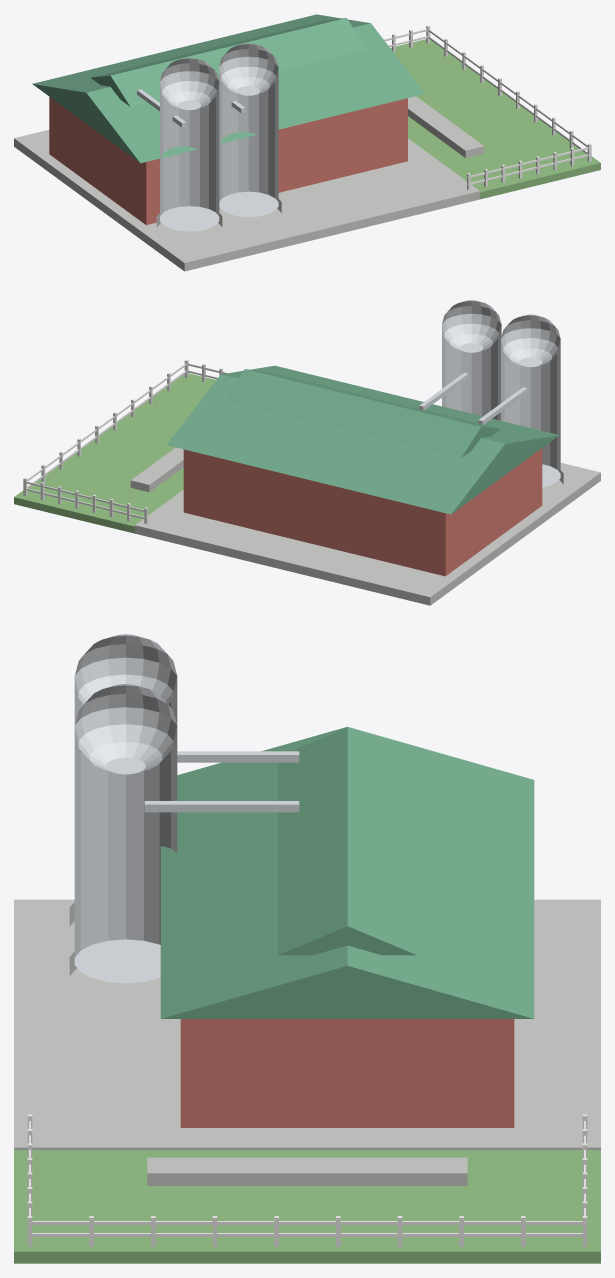
The model's file is lm_75_trang_trai_bo_sua_highland_dairy_barn_silo.glb.
The picture shows the model from 3 angles, top to bottom: view 1: azimuth 30°, elevation 25°; view 2: azimuth 150°, elevation 25°; view 3: azimuth 270°, elevation 25°; orthographic projection. The views are drawn at different scales.
Visible parts, largest first — view 1: lm_75_trang_trai_bo_sua_highland_dairy_barn_silo; view 2: lm_75_trang_trai_bo_sua_highland_dairy_barn_silo; view 3: lm_75_trang_trai_bo_sua_highland_dairy_barn_silo.
Boxes of the visible parts, <box> form: lm_75_trang_trai_bo_sua_highland_dairy_barn_silo: <box>14,14,600,271</box>; lm_75_trang_trai_bo_sua_highland_dairy_barn_silo: <box>14,300,600,605</box>; lm_75_trang_trai_bo_sua_highland_dairy_barn_silo: <box>14,634,600,1263</box>.
Size of the model in its own units: 31.1 by 12.65 by 22.
